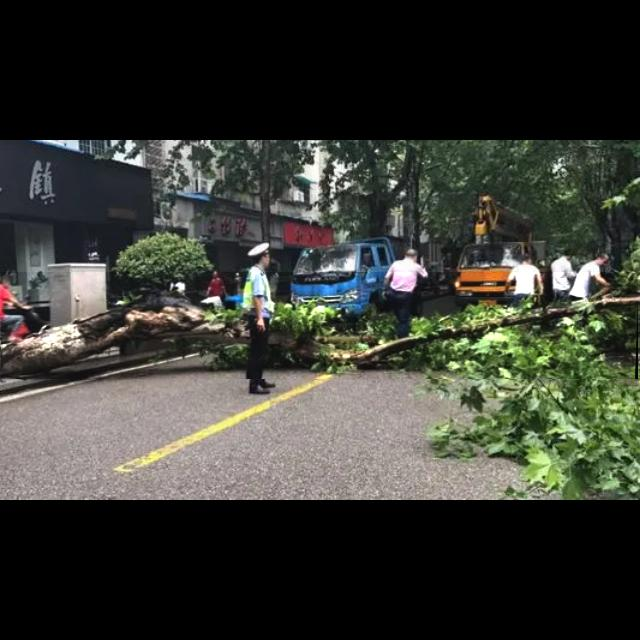Fallen Tree: (1, 272, 639, 380)
